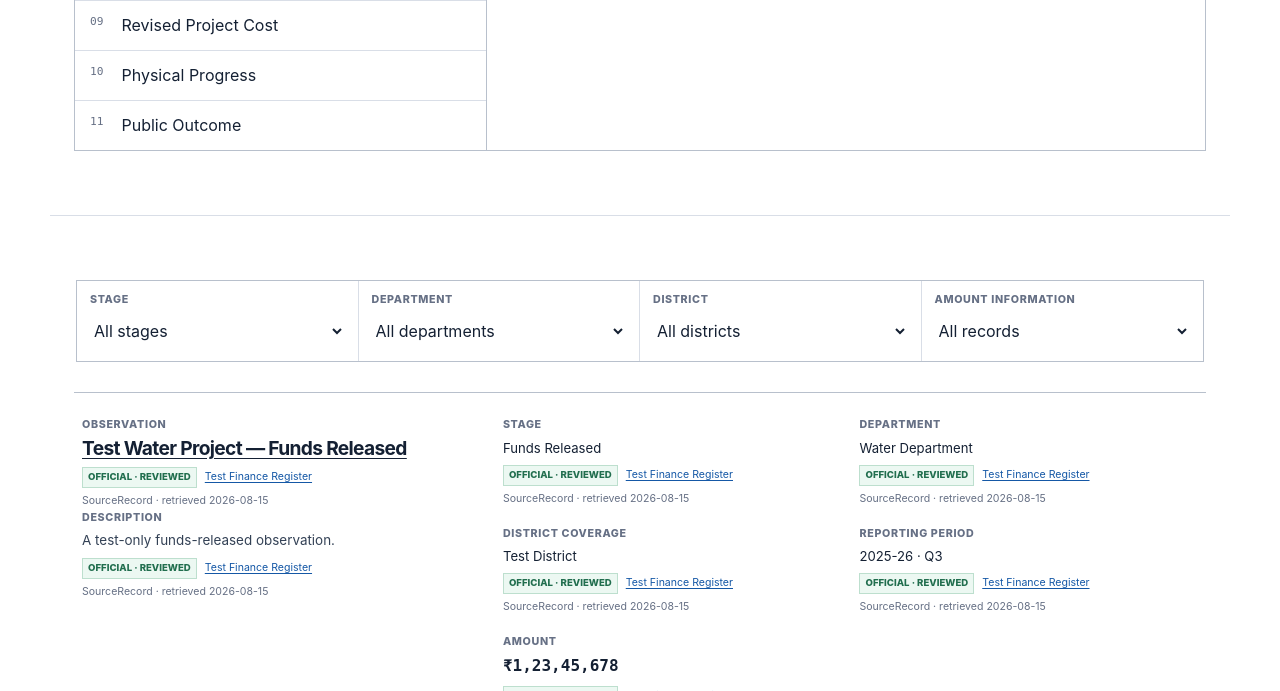
Test: PublicMoneyDirectory › renders bilingual claims, amounts and all native filters
(page scrolled)
Expected: the heading "Test Water Project — Funds Released" is shown, [82,436,407,460]
Expected: the text "₹1,23,45,678" is shown, [503,656,619,675]
Select "Funds Released" in the dropdown labelled "Stage" at point(217, 331), box [90,312,344,350]
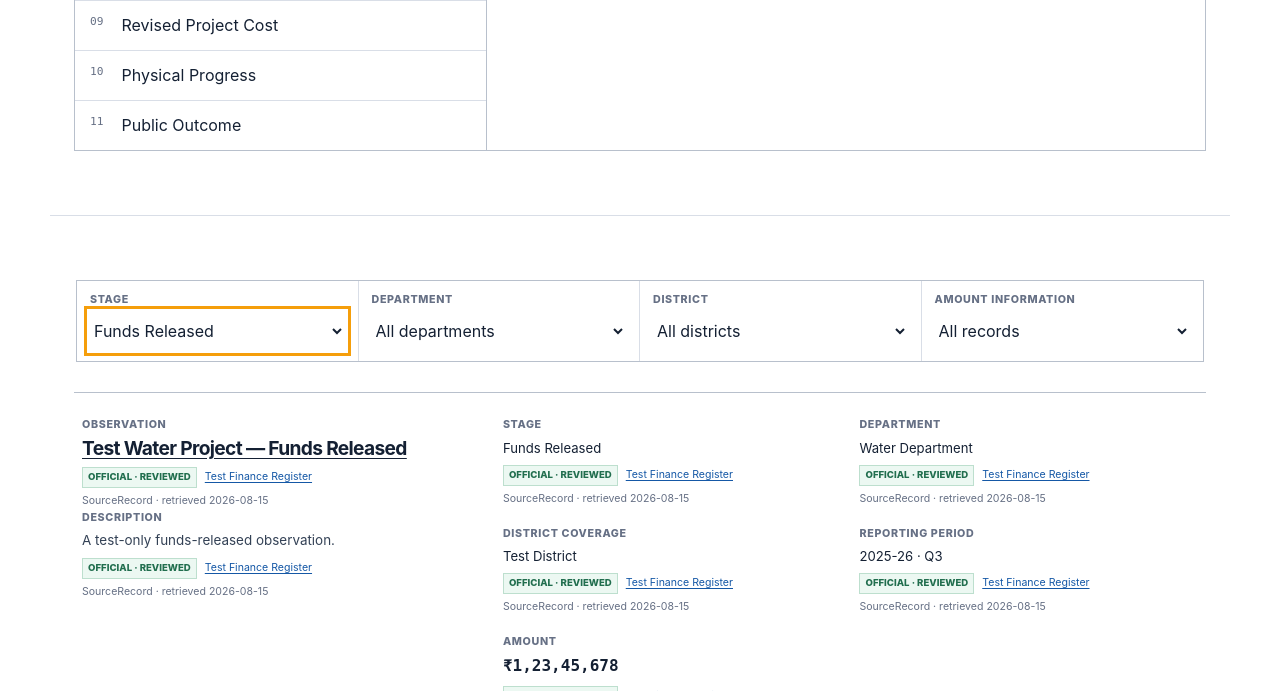
Select "Water Department" in the dropdown labelled "Department" at point(499, 331), box [372,312,626,350]
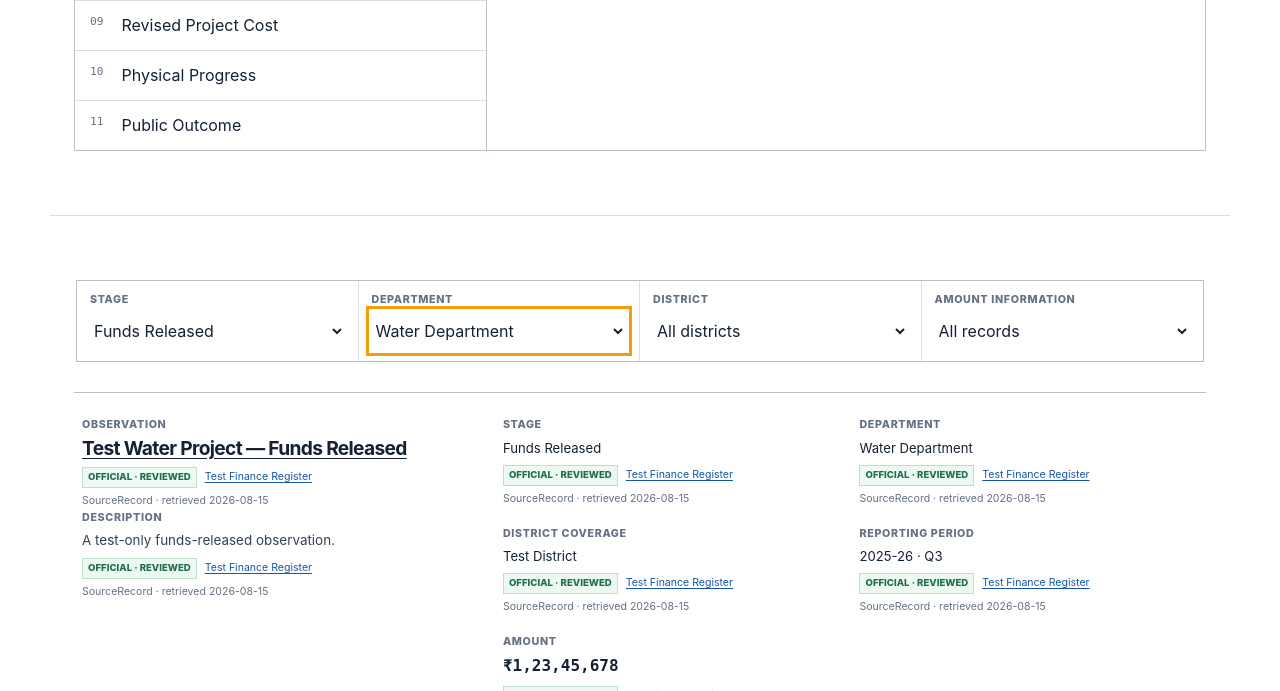
Select "Test District" in the dropdown labelled "District" at point(780, 331), box [653,312,908,350]
(page scrolled)
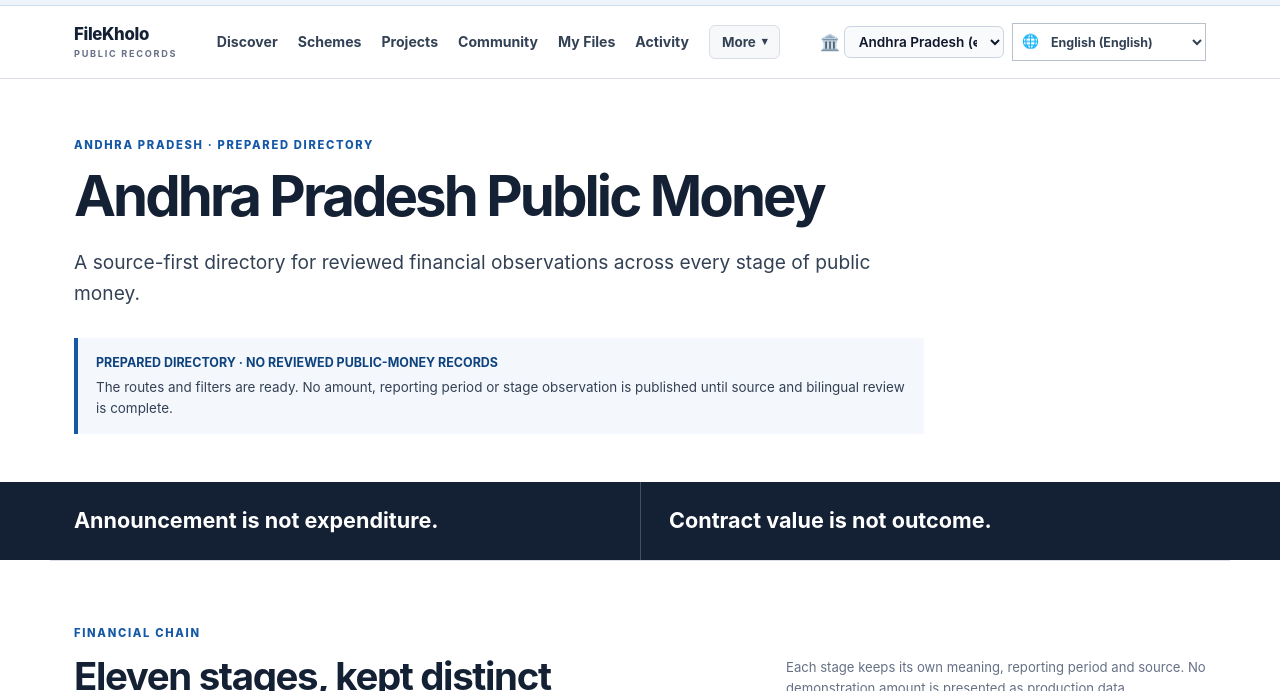
Select "తెలుగు (Telugu)" in the dropdown named "Select language" at point(1122, 42), box [1039,24,1205,60]
(page scrolled)
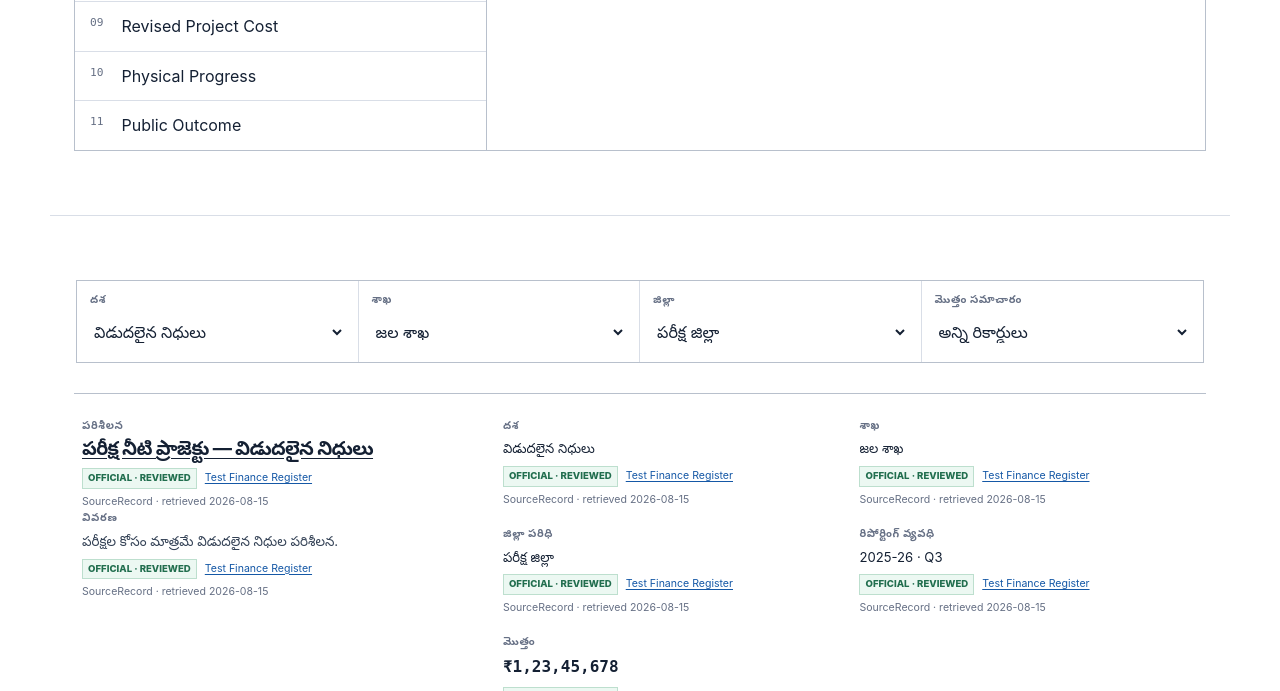
Now the heading "పరీక్ష నీటి ప్రాజెక్టు — విడుదలైన నిధులు" is shown, box [82,436,373,460]
